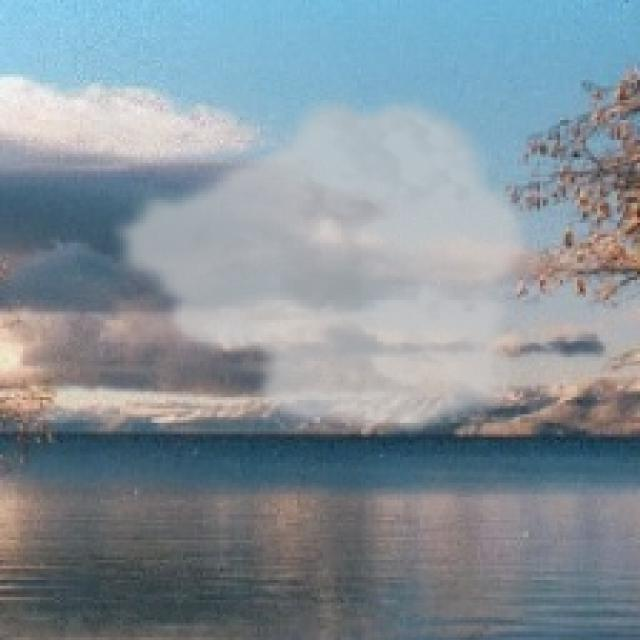Smoke: (106, 89, 532, 438)
